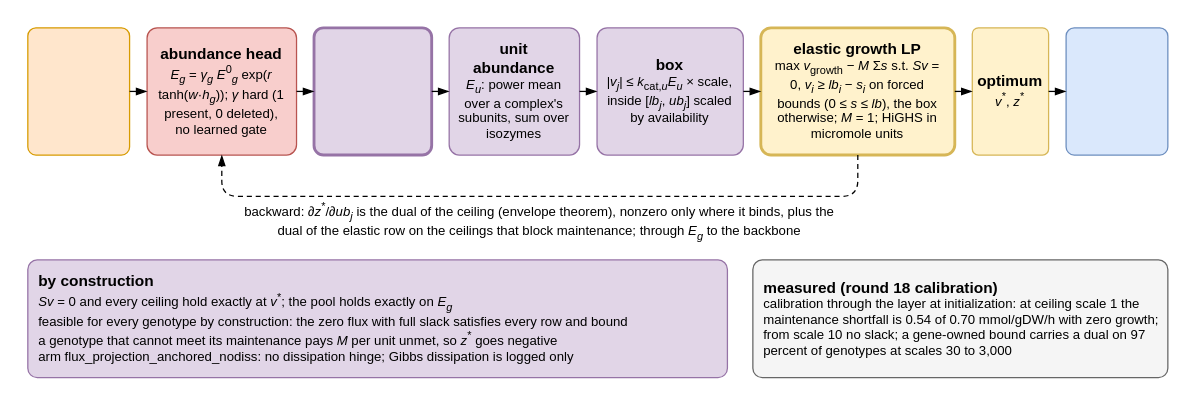
Some shapes in this 1196 by 407 pixel diagram are drawn without their labels. The centre of each missing label's shape, as x and y in pixels:
gene tokens h g from the backbone, perturbed graph: (x=77, y=90)
pool, exact E g ← E g min(1, p avail / Σ g MW g E g ): the GECKO pool holds: (x=372, y=91)
readout a z * + b , or gated: head( z ) + g ( a z * + b ): (x=1116, y=90)
